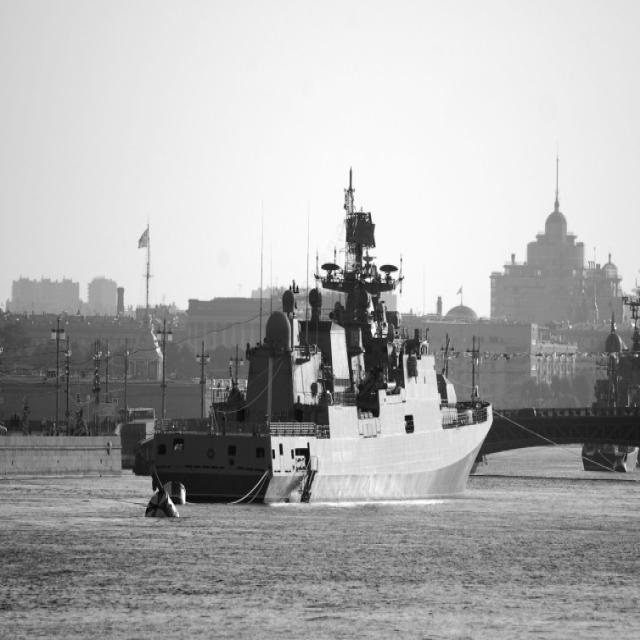Fragata: (147, 156, 495, 512)
